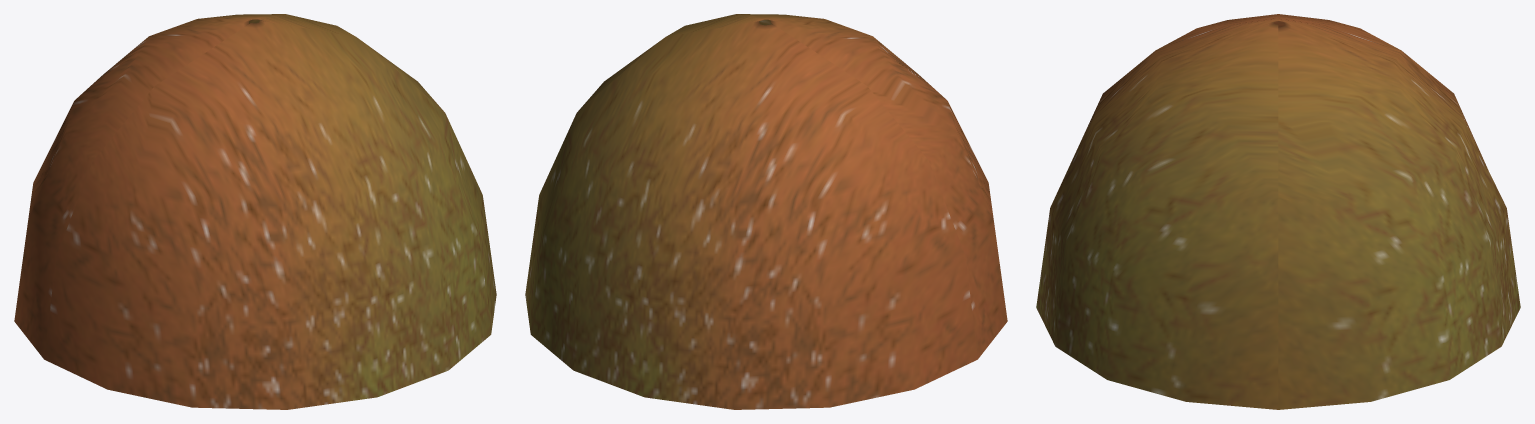
File: kiwiS.FBX
The picture shows the model from 3 angles, left to right: view 1: azimuth 30°, elevation 25°; view 2: azimuth 150°, elevation 25°; view 3: azimuth 270°, elevation 25°; orthographic projection.
Parts seen in each view (by area): view 1: Kiwi001; view 2: Kiwi001; view 3: Kiwi001.
Part boxes in pixels (left/top/right/bottom): Kiwi001: left=14, top=14, right=496, bottom=409; Kiwi001: left=525, top=14, right=1007, bottom=409; Kiwi001: left=1036, top=14, right=1520, bottom=409.
Size of the model in its own units: 4.71 by 3.07 by 4.71.
